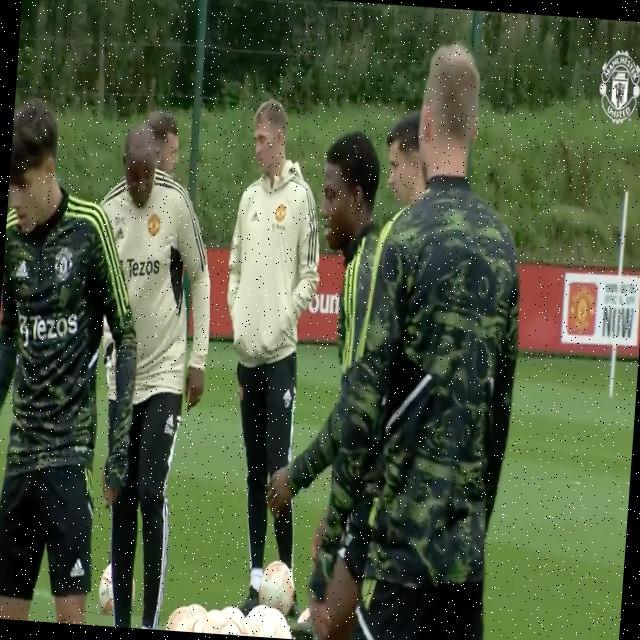Adidas: (69, 555, 87, 580), (15, 256, 30, 281), (112, 223, 125, 240), (164, 410, 176, 428), (250, 210, 260, 224)
